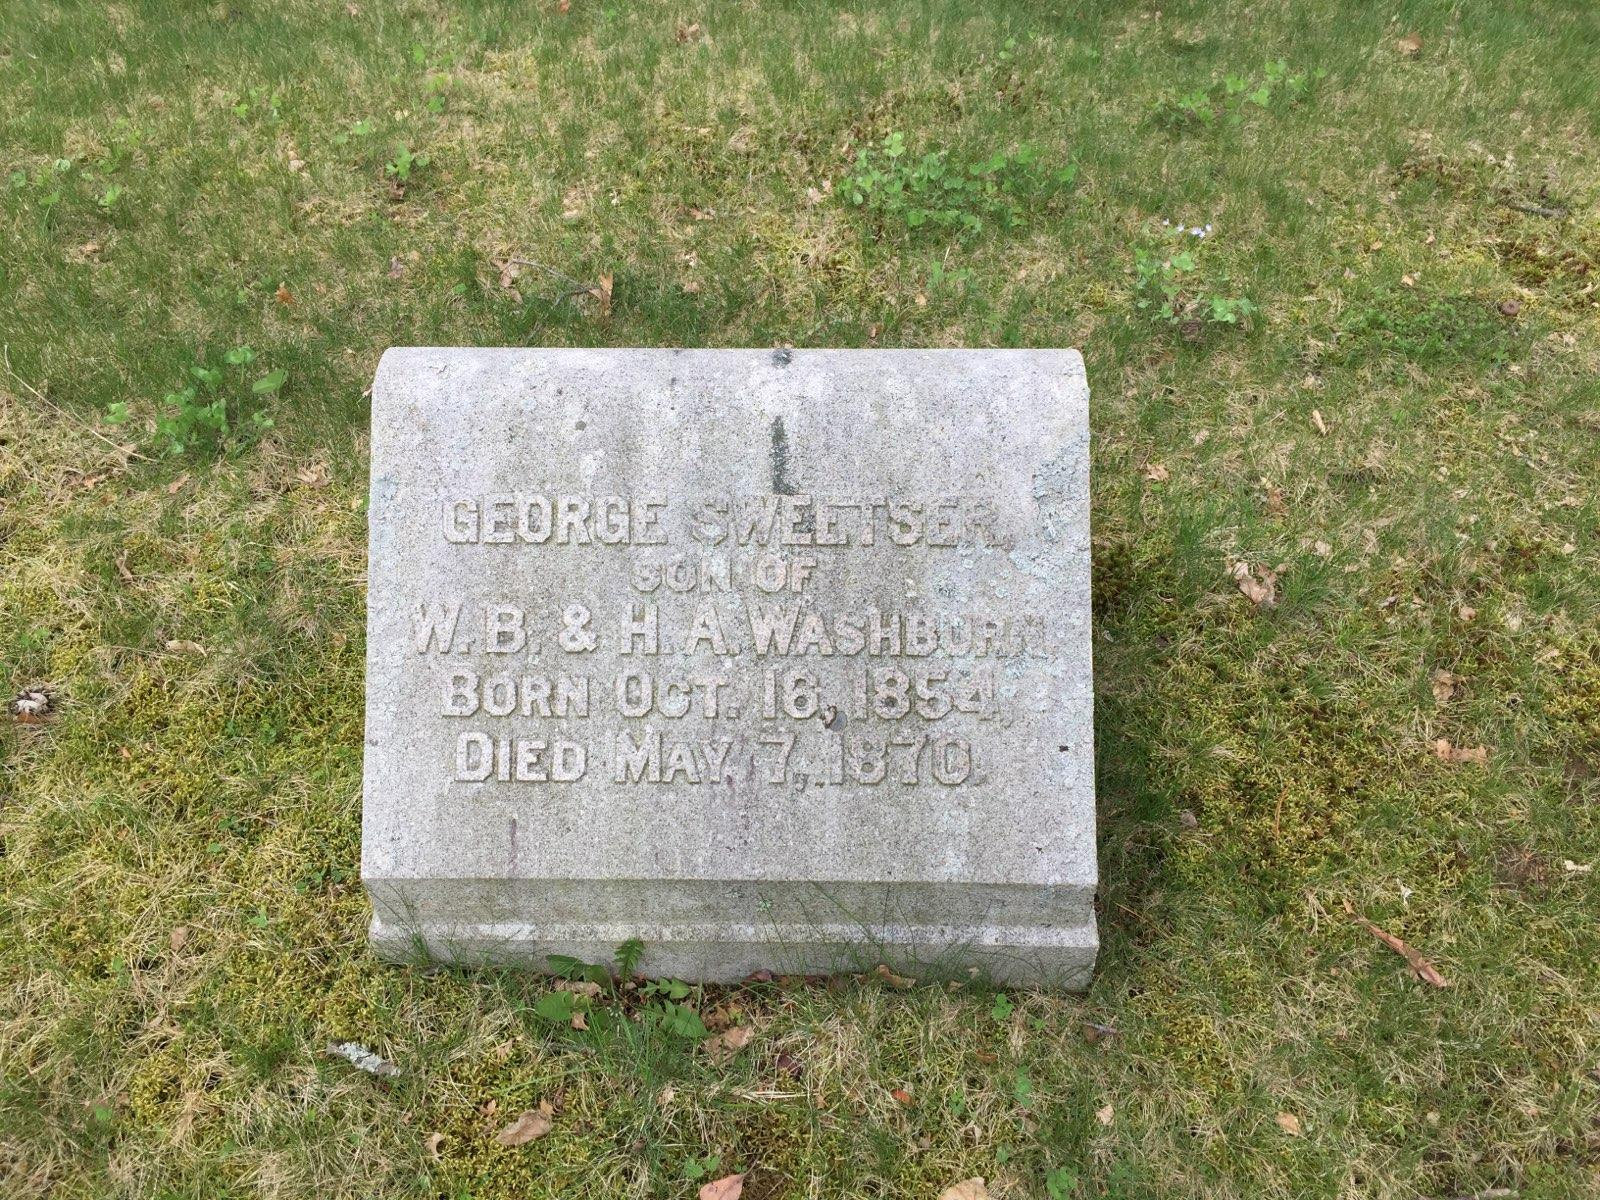slant: (359, 334, 1095, 976)
